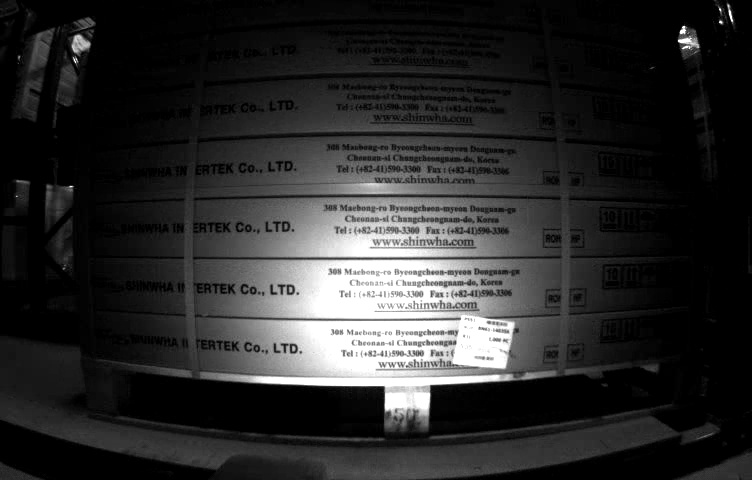True Barcode: (456, 313, 510, 368)
